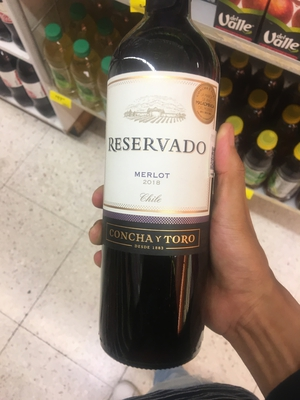reservado merlot: (95, 4, 220, 374)
